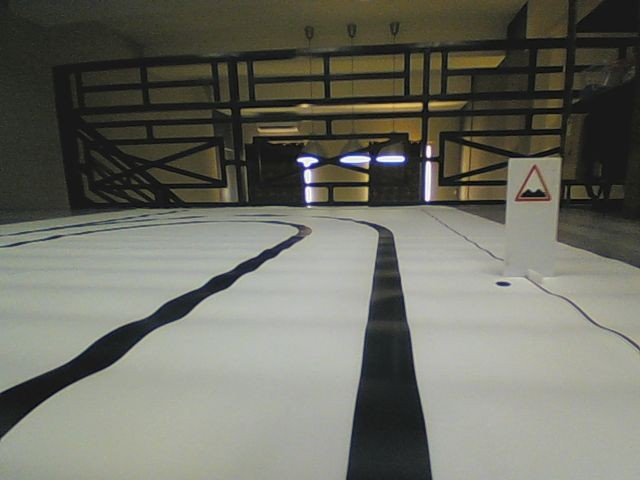Nerov: (514, 163, 551, 204)
